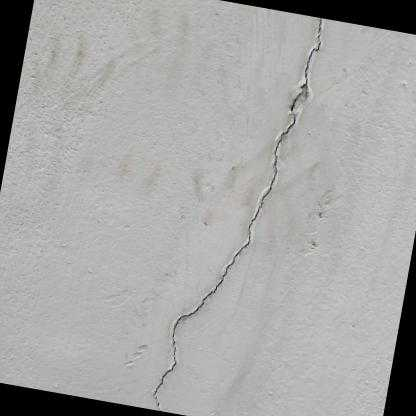crack: (153, 97, 296, 394), (300, 32, 321, 87), (155, 395, 162, 411), (317, 17, 322, 32)
